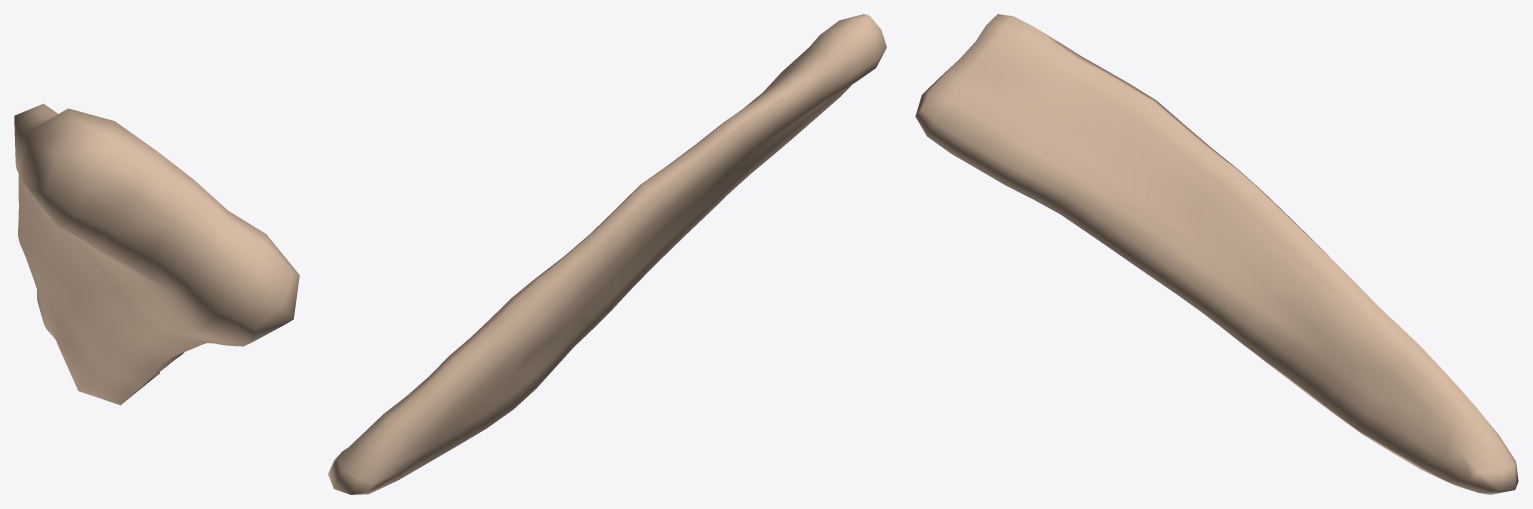
3 renders of one model, left to right at view 1: azimuth 30°, elevation 25°; view 2: azimuth 150°, elevation 25°; view 3: azimuth 270°, elevation 25°, orthographic. The views are drawn at different scales.
Parts seen in each view (by area): view 1: 左侧拇长展肌与拇短伸肌腱鞘; view 2: 左侧拇长展肌与拇短伸肌腱鞘; view 3: 左侧拇长展肌与拇短伸肌腱鞘.
Boxes of the visible parts, x1,y1,x2,y2 form: 左侧拇长展肌与拇短伸肌腱鞘: [14, 103, 299, 405]; 左侧拇长展肌与拇短伸肌腱鞘: [328, 14, 886, 494]; 左侧拇长展肌与拇短伸肌腱鞘: [915, 14, 1518, 494].
Bounding box in the file's own units: 0.042 × 0.0467 × 0.0724.
